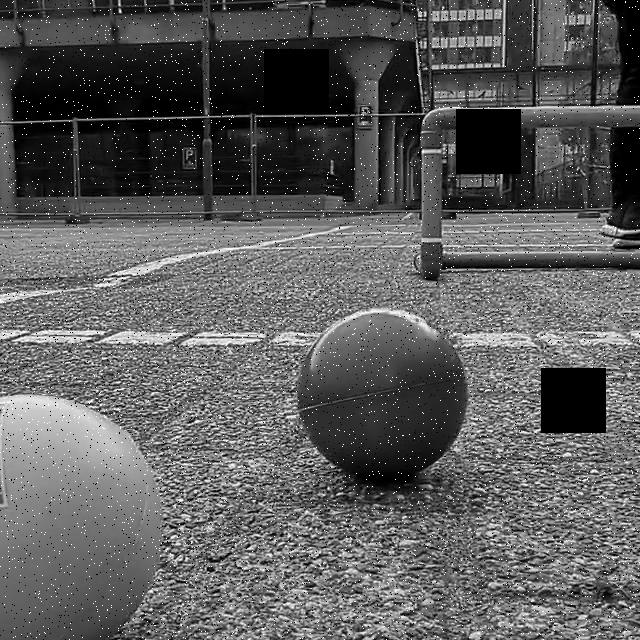ball: (2, 391, 164, 640), (296, 307, 466, 482)
